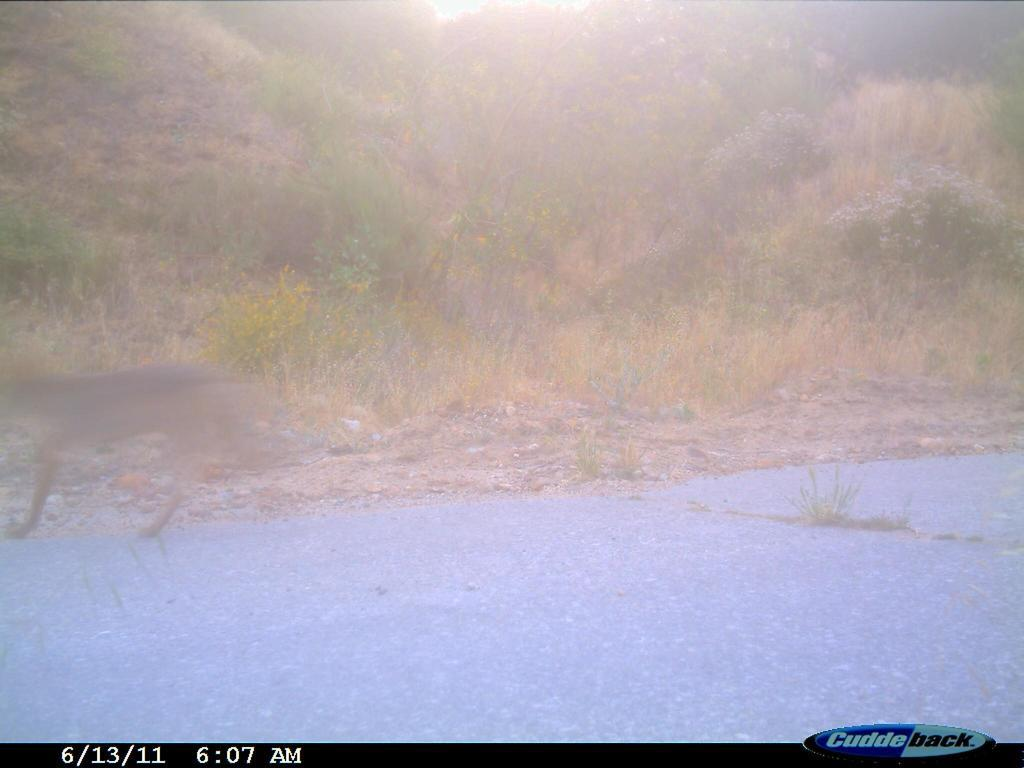coyote: (4, 356, 300, 556)
